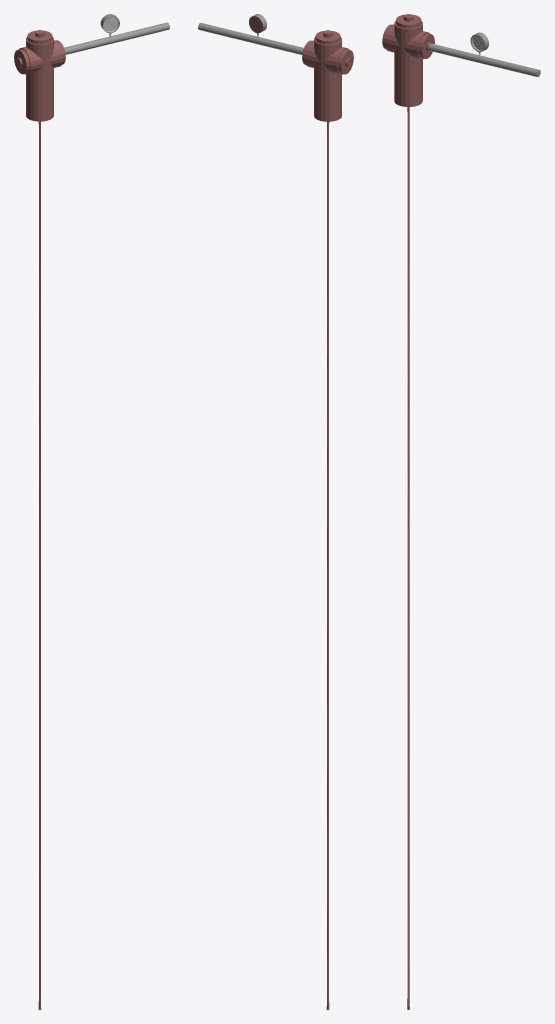
The picture shows the model from 3 angles, left to right: view 1: azimuth 30°, elevation 25°; view 2: azimuth 150°, elevation 25°; view 3: azimuth 330°, elevation 25°; orthographic projection.
Size of the model in its own units: 1.4 by 8.75 by 0.2286.
